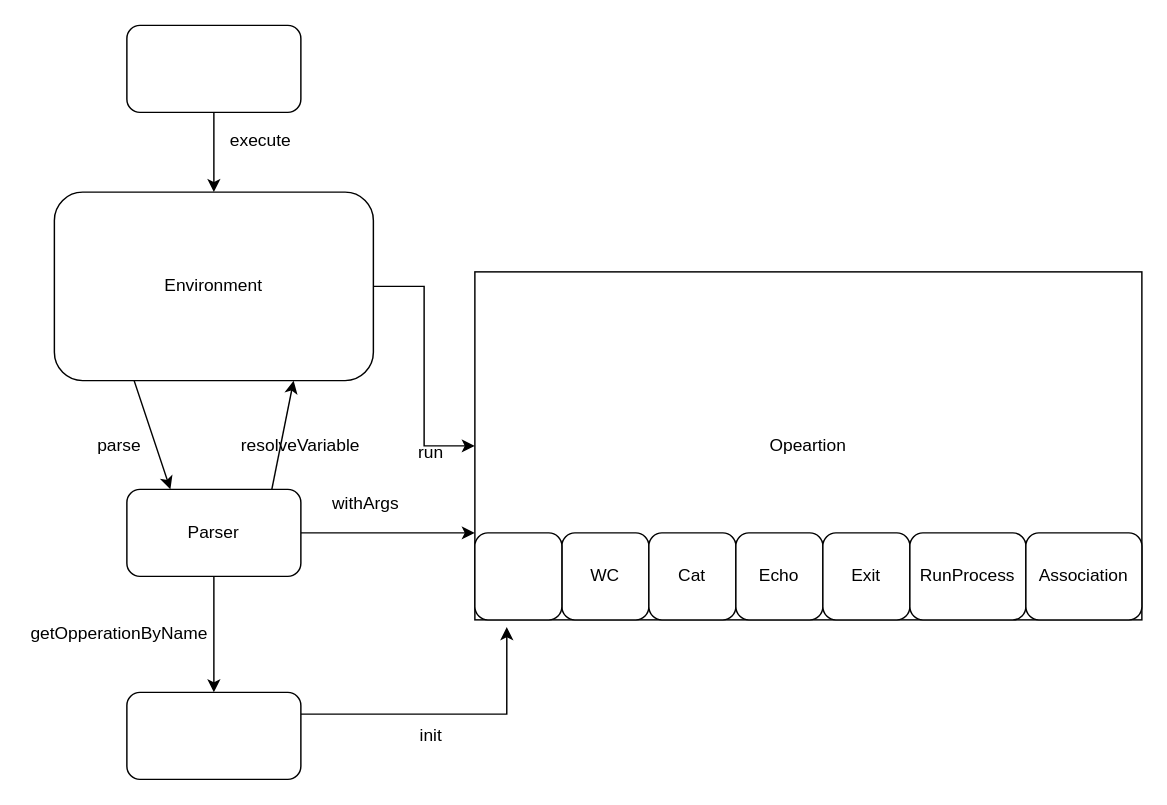
This 1167x805 diagram has some shape labels left out. The shapes that lost their labels are listed below. From the top down, each one's box as (x1, y1, x2, y2) in pixels, then its label:
(125, 24, 301, 112): main
(473, 531, 562, 620): Pwd
(125, 691, 301, 779): OperationFactory
